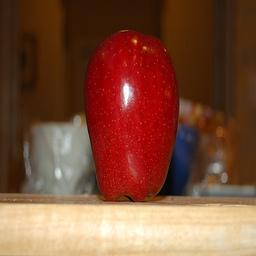apple: (82, 28, 180, 203)
